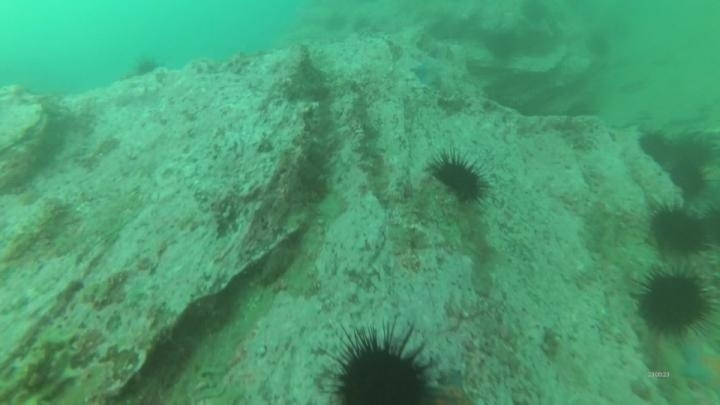echinus: (328, 333, 435, 404), (634, 266, 714, 337), (646, 202, 710, 258), (428, 151, 490, 204), (667, 160, 709, 200), (670, 134, 715, 169), (636, 129, 674, 166), (584, 30, 613, 59), (518, 1, 551, 26), (132, 55, 161, 79)
holothurian: (1, 324, 81, 403), (587, 200, 619, 256)
starfish: (678, 340, 720, 394), (424, 368, 479, 403), (409, 61, 446, 91)
